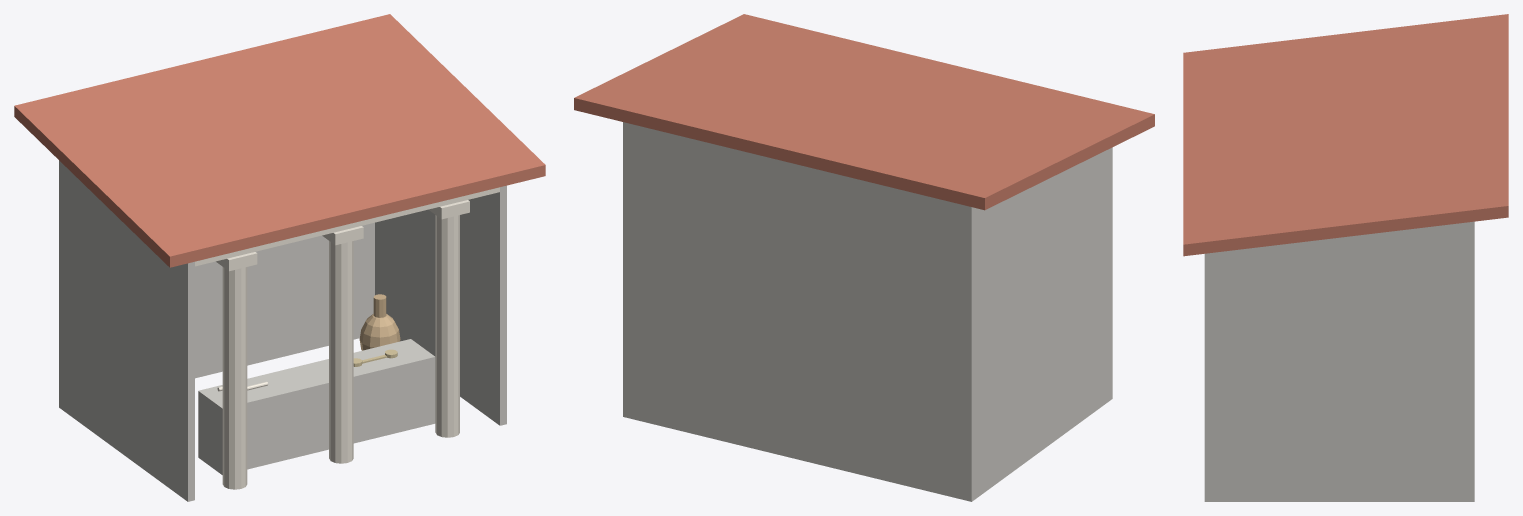
Rendered from Shop_Byzantine.fbx.
3 renders of one model, left to right at view 1: azimuth 30°, elevation 25°; view 2: azimuth 150°, elevation 25°; view 3: azimuth 270°, elevation 25°, orthographic. The views are drawn at different scales.
Parts seen in each view (by area): view 1: Shop_Byzantine_Mesh; view 2: Shop_Byzantine_Mesh; view 3: Shop_Byzantine_Mesh.
Boxes of the visible parts, <box> form: Shop_Byzantine_Mesh: <box>14,14,545,501</box>; Shop_Byzantine_Mesh: <box>574,14,1154,501</box>; Shop_Byzantine_Mesh: <box>1183,14,1508,501</box>.
Bounding box in the file's own units: 5.3 × 4 × 3.8.
